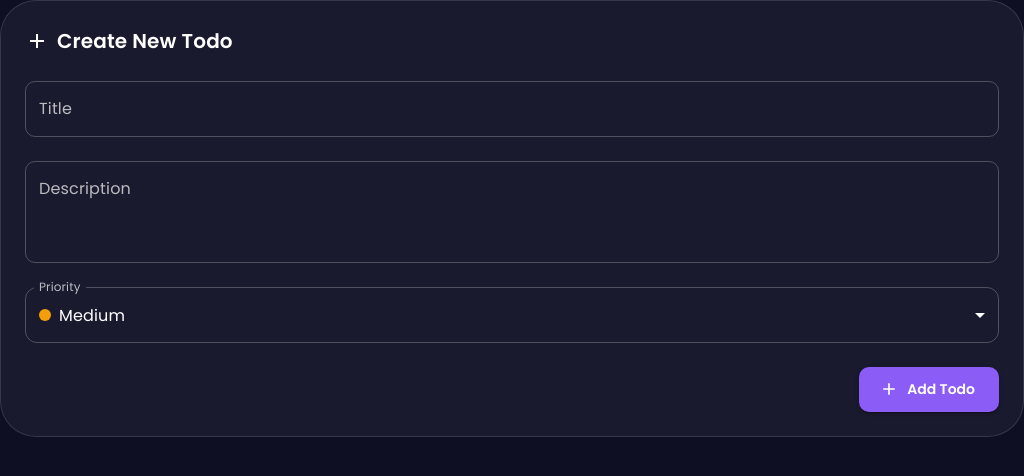
Scenario: TodoForm › form validation › should disable submit button when form is invalid
The width and height of the screenshot is (1024, 476).
Note: Touch the title field to trigger validation
Click the field labelled "Title": click(512, 109) [25,81,999,137]
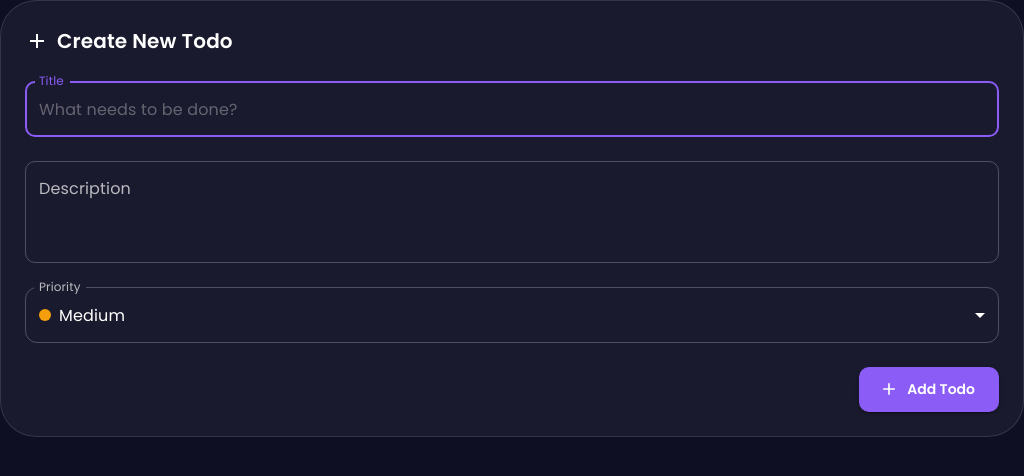
Press Tab
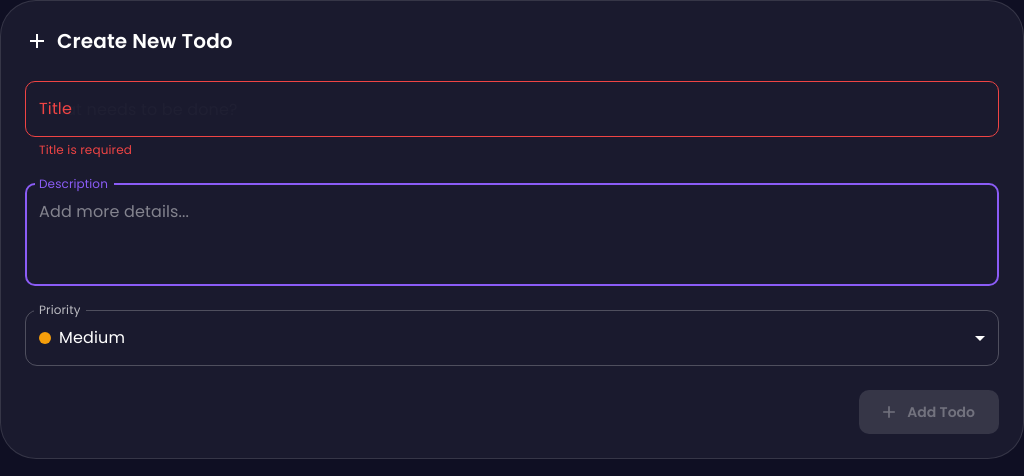
Now the button "Add Todo" is disabled, box [859,390,999,434]
